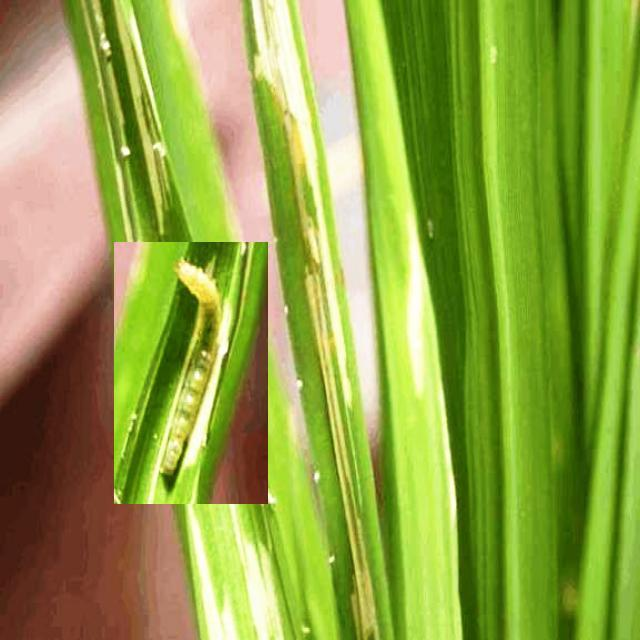leaf-folder: (114, 242, 268, 504)
